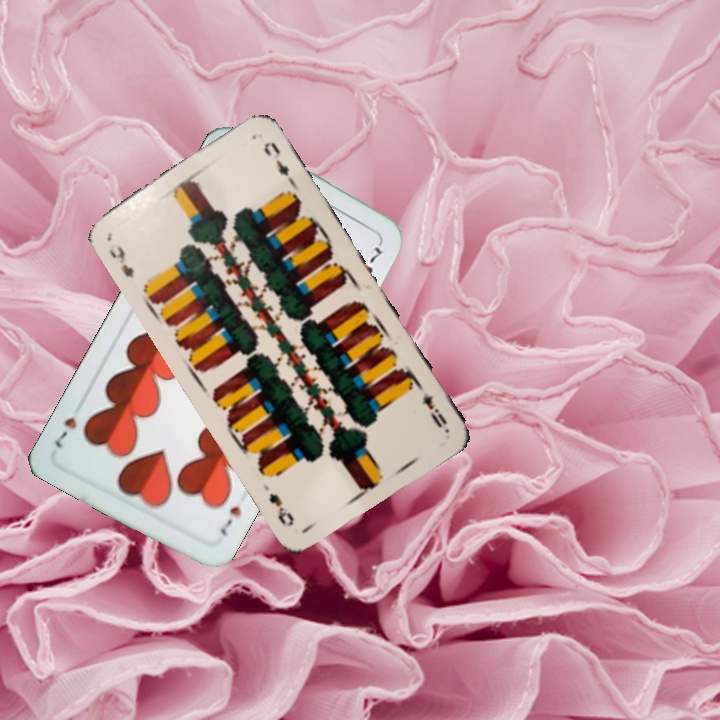E9: (417, 388, 450, 431), (104, 242, 137, 280)
H7: (216, 502, 244, 538)
